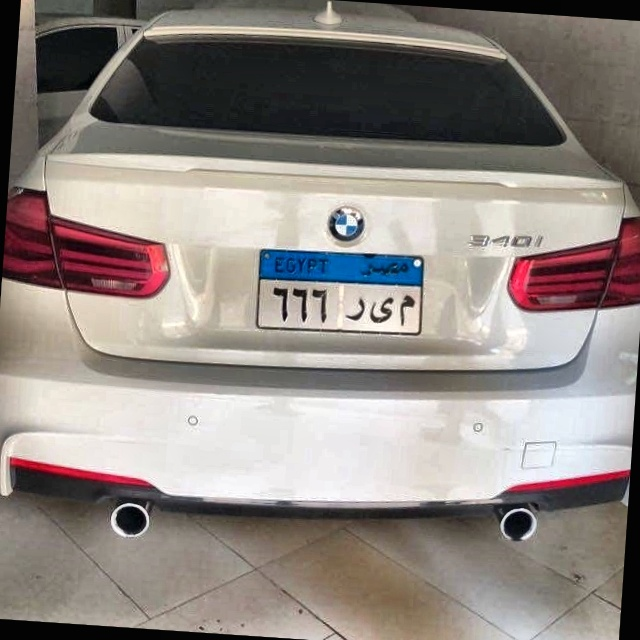License Plate: (250, 243, 430, 343)
